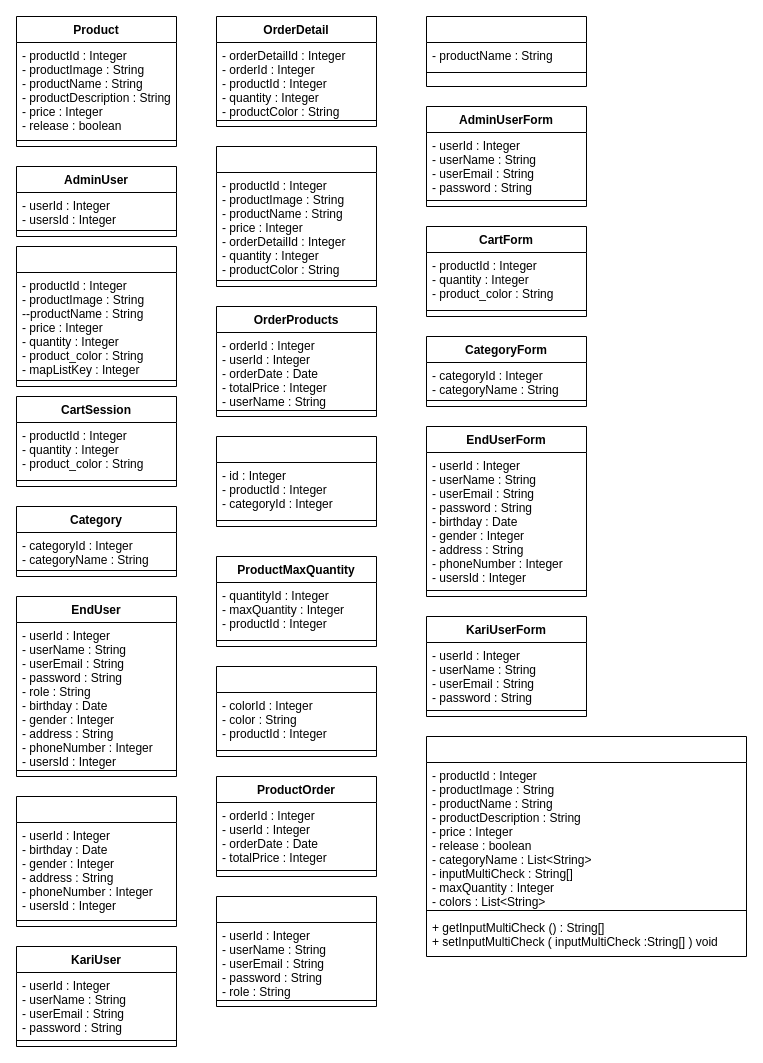
Image size: 763x1063. Some labels were removed from this diagram. The box of each missing label's shape, as (x1, y1, x2, y2) in pixels:
CartProduct: (16, 246, 176, 386)
EndUserSignup: (16, 796, 176, 926)
OrderProductDetail: (216, 146, 376, 286)
ProductCategory: (216, 436, 376, 526)
ProductForm: (426, 736, 746, 956)
ProductOptionColor: (216, 666, 376, 756)
TopProductListForm: (426, 16, 586, 86)
Users: (216, 896, 376, 1006)
